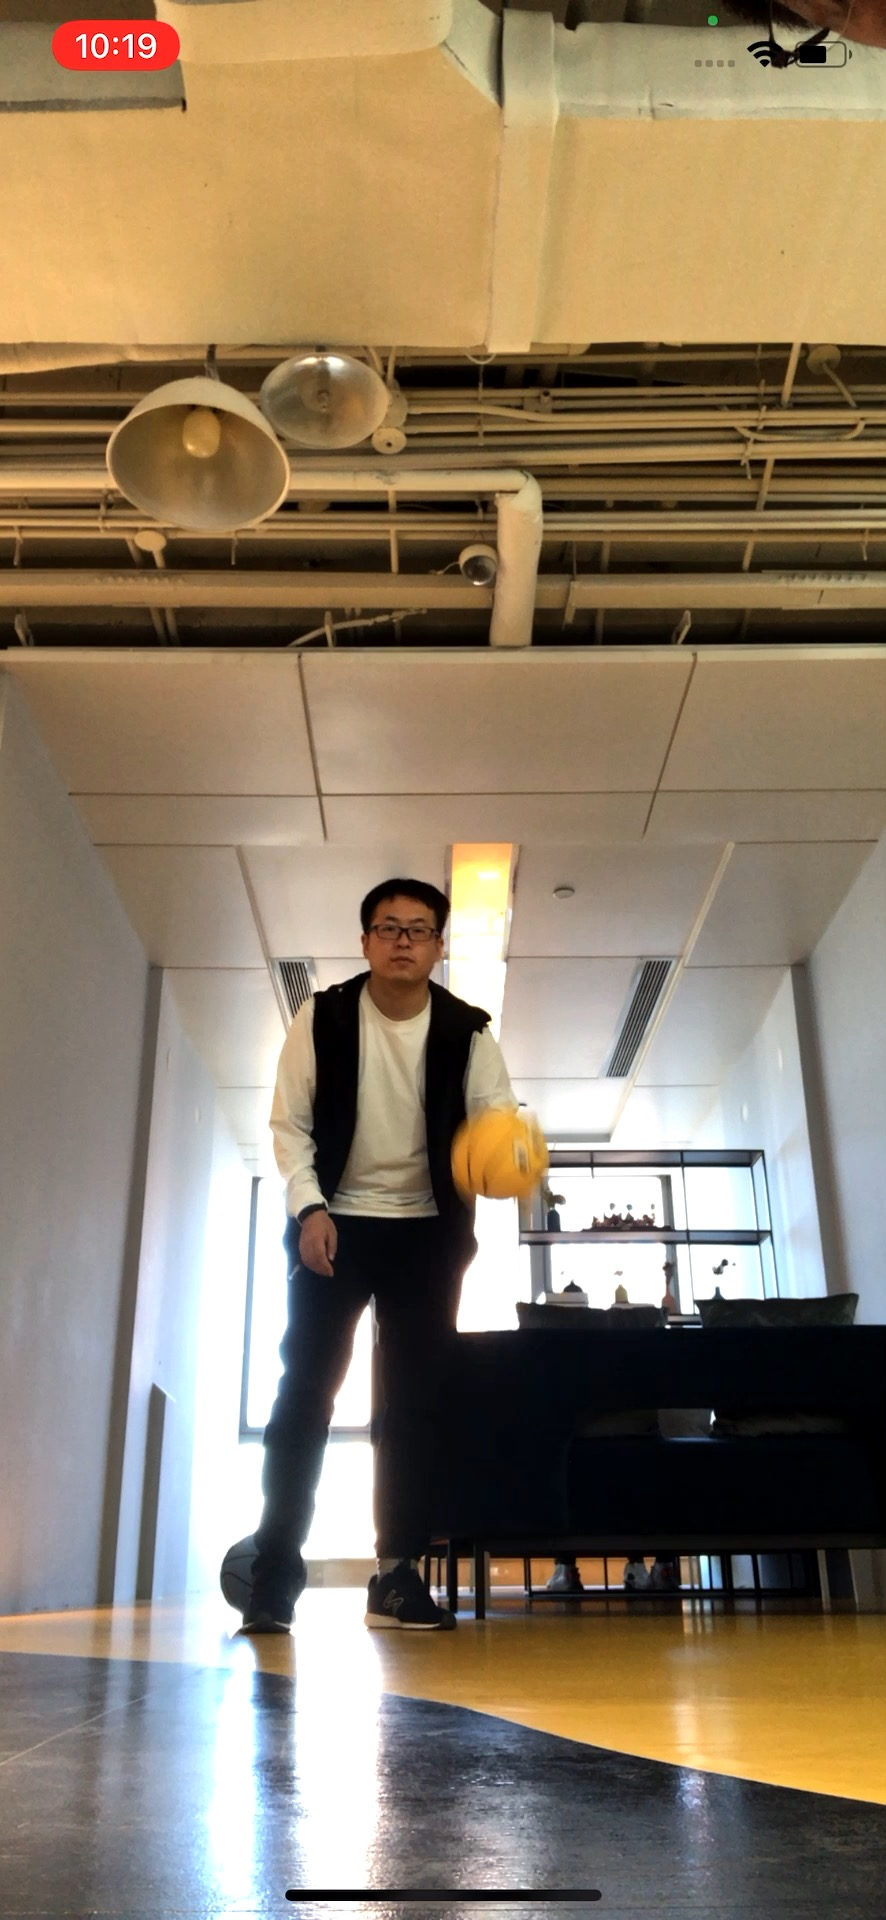ball: (452, 1108, 553, 1206), (223, 1533, 308, 1614)
